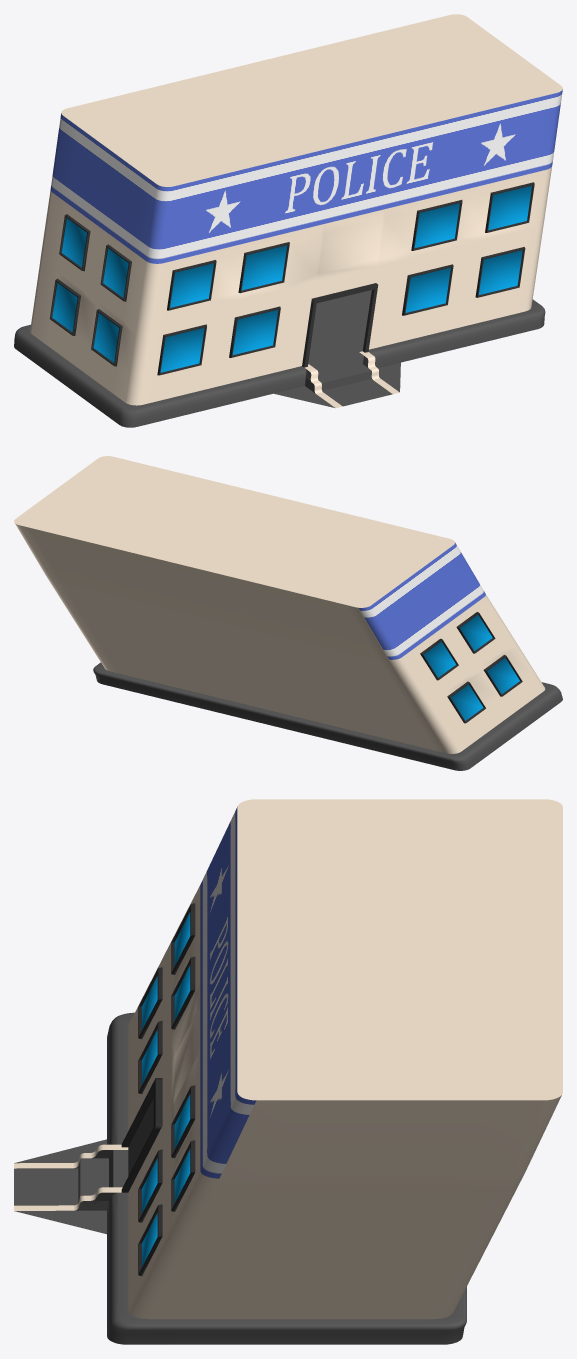
The model's file is InterrogationBuilding.fbx.
The picture shows the model from 3 angles, top to bottom: view 1: azimuth 30°, elevation 25°; view 2: azimuth 150°, elevation 25°; view 3: azimuth 270°, elevation 25°; orthographic projection. The views are drawn at different scales.
Visible parts, largest first — view 1: InterrogationBuilding; view 2: InterrogationBuilding; view 3: InterrogationBuilding.
Part boxes in pixels (left/top/right/bottom): InterrogationBuilding: left=14, top=14, right=562, bottom=427; InterrogationBuilding: left=14, top=456, right=562, bottom=770; InterrogationBuilding: left=14, top=799, right=562, bottom=1344.
Size of the model in its own units: 855 by 550 by 320.
